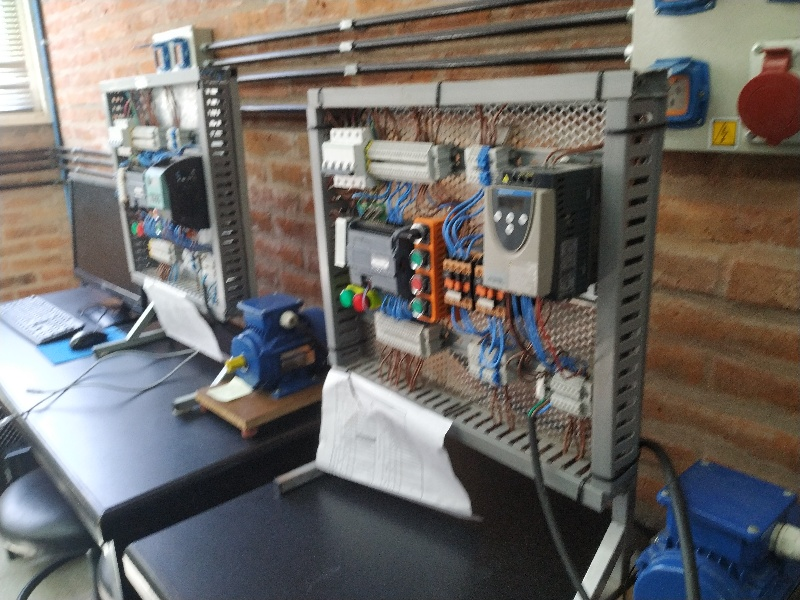Tablero 3: (99, 78, 250, 307)
Tablero 4: (307, 90, 621, 468)
